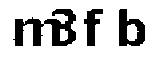3: (56, 9, 78, 48)
b: (115, 4, 149, 49)
f: (81, 2, 105, 51)
m: (10, 18, 61, 49)
